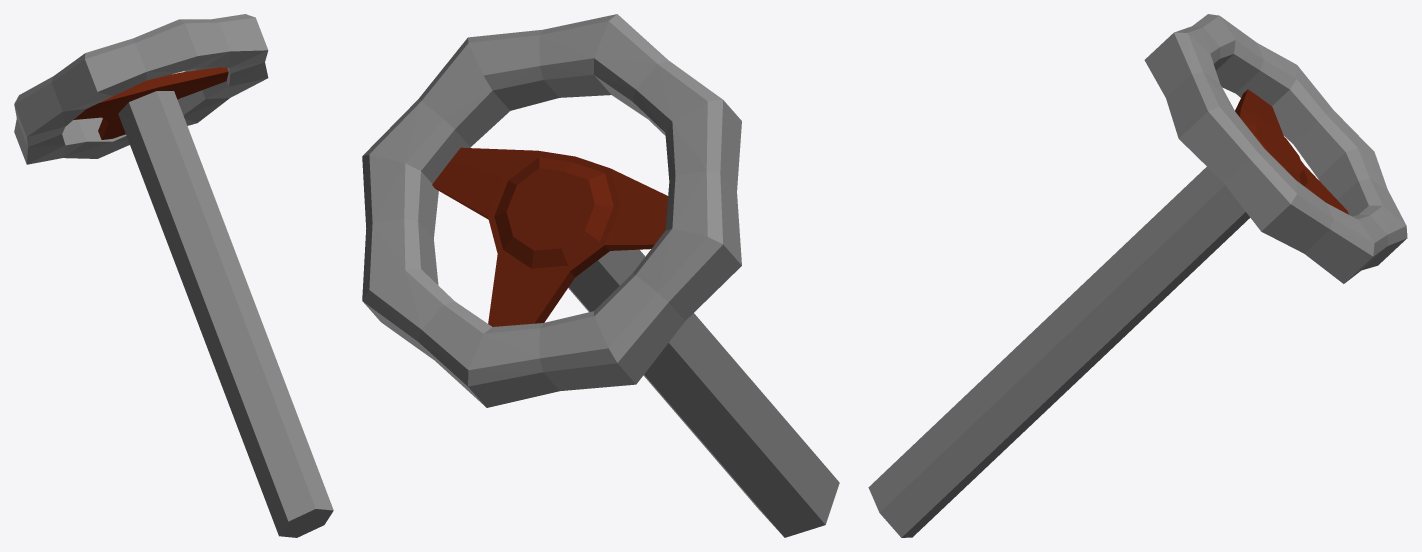
Rendered from SteeringWheel3.obj.
The picture shows the model from 3 angles, left to right: view 1: azimuth 30°, elevation 25°; view 2: azimuth 150°, elevation 25°; view 3: azimuth 270°, elevation 25°; orthographic projection. The views are drawn at different scales.
Parts seen in each view (by area): view 1: SteeringWheel3_Cylinder; view 2: SteeringWheel3_Cylinder; view 3: SteeringWheel3_Cylinder.
Boxes of the visible parts, left/top/right/bottom form: SteeringWheel3_Cylinder: left=14, top=14, right=333, bottom=537; SteeringWheel3_Cylinder: left=362, top=14, right=839, bottom=537; SteeringWheel3_Cylinder: left=868, top=14, right=1407, bottom=537.
Size of the model in its own units: 2 by 3.42 by 3.31.
